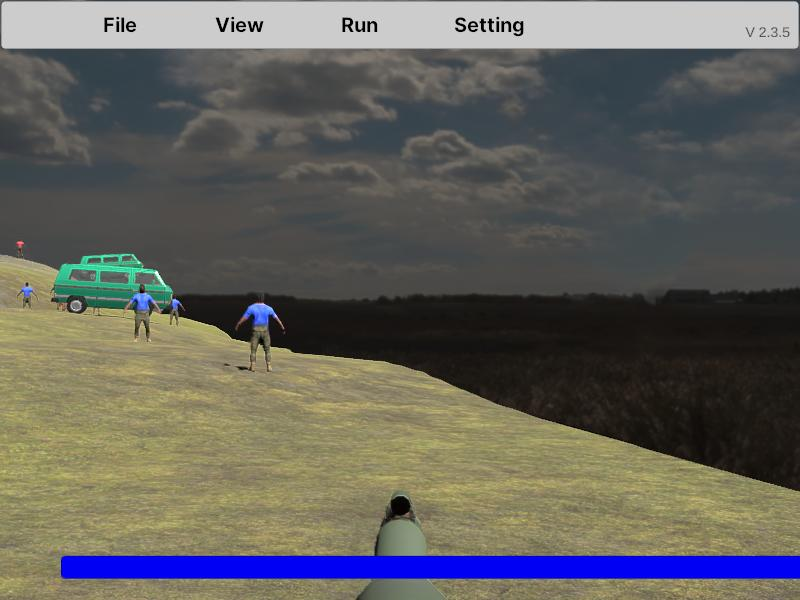Human: (235, 292, 285, 373), (125, 284, 160, 344)
car: (50, 264, 173, 316)
